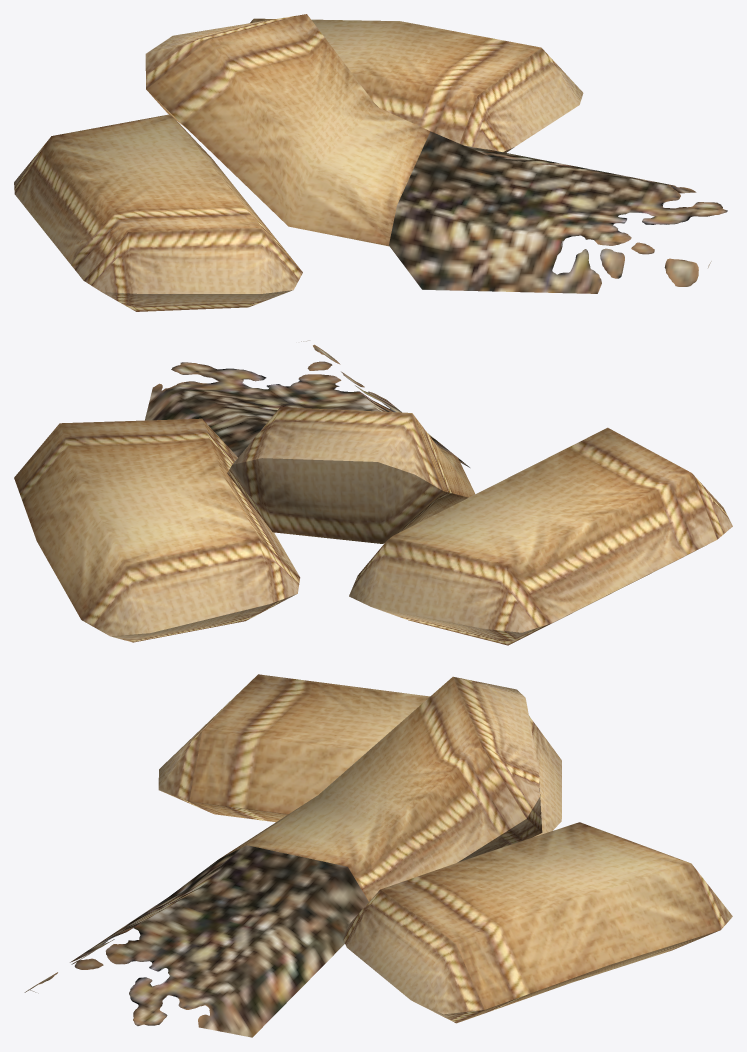
The model's file is szc_object_tanwei22_2a.FBX.
3 renders of one model, top to bottom at view 1: azimuth 30°, elevation 25°; view 2: azimuth 150°, elevation 25°; view 3: azimuth 270°, elevation 25°, orthographic. The views are drawn at different scales.
Parts seen in each view (by area): view 1: szc_object_tanwei22_2a; view 2: szc_object_tanwei22_2a; view 3: szc_object_tanwei22_2a.
Part boxes in pixels (x1,y1,x2,y2): szc_object_tanwei22_2a: (14, 14, 727, 311); szc_object_tanwei22_2a: (14, 340, 732, 645); szc_object_tanwei22_2a: (24, 674, 732, 1037).
Bounding box in the file's own units: 199 × 59.61 × 203.
